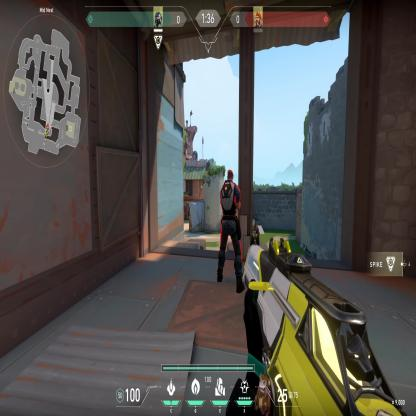enemy: (216, 167, 242, 293)
